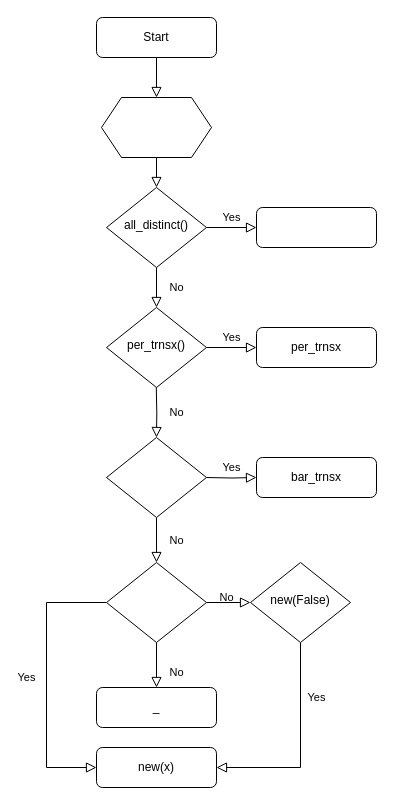
This 394x805 diagram has some shape labels left out. The shapes that lost their labels are listed below. From the top down, each one's centre as x and y in pixels, then its label:
At [156,127]: "While: True".
At [316,227]: "all_distinct".
At [156,477]: "bar_trnsx()".
At [156,602]: "new(True)".
